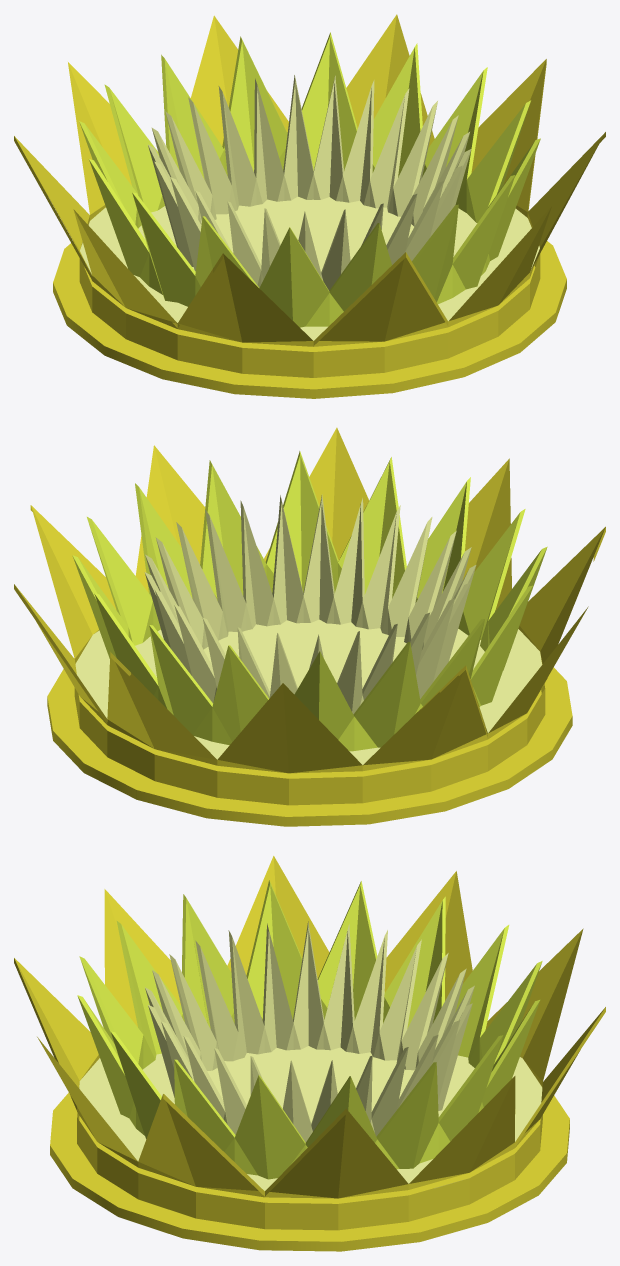
The model's file is portal_abrir_000015.obj.
3 views of the same model, one above another, from view 1: azimuth 30°, elevation 25°; view 2: azimuth 150°, elevation 25°; view 3: azimuth 270°, elevation 25° (orthographic). The views are drawn at different scales.
Visible parts, largest first — view 1: pCylinder1, Cylinder, Cylinder.001; view 2: pCylinder1, Cylinder, Cylinder.001; view 3: pCylinder1, Cylinder, Cylinder.001.
Part boxes in pixels (x1,y1,x2,y2): pCylinder1: [14, 14, 605, 398]; Cylinder: [79, 32, 540, 327]; Cylinder.001: [148, 75, 471, 290]; pCylinder1: [14, 427, 605, 826]; Cylinder: [72, 451, 547, 751]; Cylinder.001: [144, 494, 476, 714]; pCylinder1: [14, 856, 605, 1251]; Cylinder: [77, 880, 542, 1179]; Cylinder.001: [145, 921, 474, 1142].
Bounding box in the file's own units: 3 × 0.9054 × 2.96.
4 materials, 4 textured.
